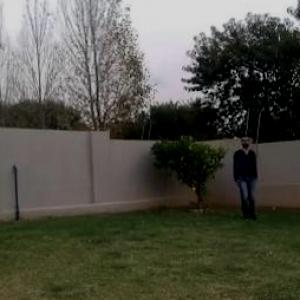follow: (236, 130, 259, 221)
